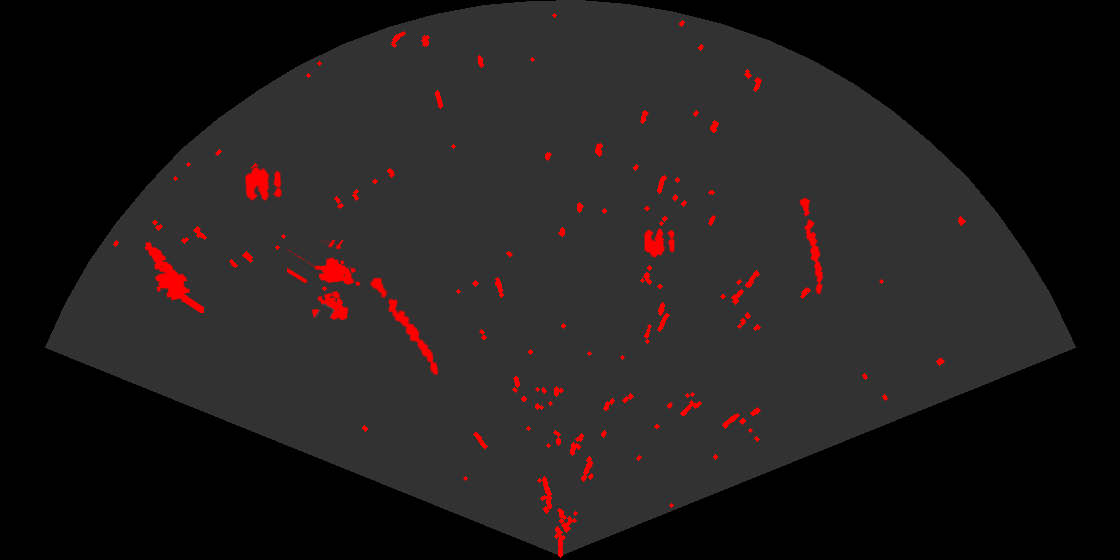ball: (243, 165, 283, 203), (643, 227, 676, 259)
cage: (287, 240, 362, 322)
chain: (368, 276, 440, 377), (798, 195, 825, 296)
frogman: (143, 240, 204, 313)
